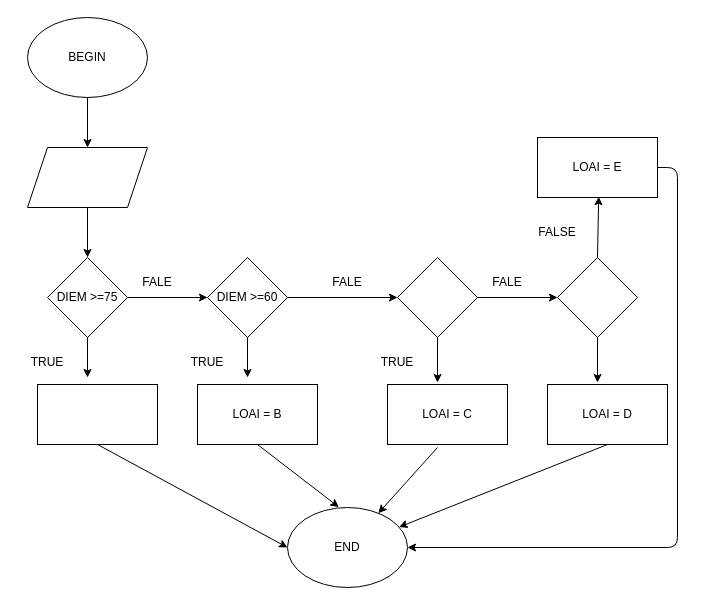
The diagram is 703 pixels wide and 605 high, and some of its shapes have lost their labels. Here are the shapes that lost their labels. From the top down, the centre of each, then its label:
At point (87, 177): "INPUT : DIEM".
At point (437, 297): "DIEM >=45".
At point (597, 297): "DIEM >=35".
At point (97, 414): "LOAI = A".
